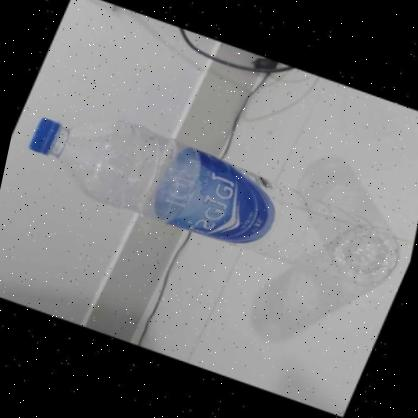bottle: (14, 105, 414, 295)
cap: (28, 114, 62, 160)
label: (153, 141, 286, 249)
